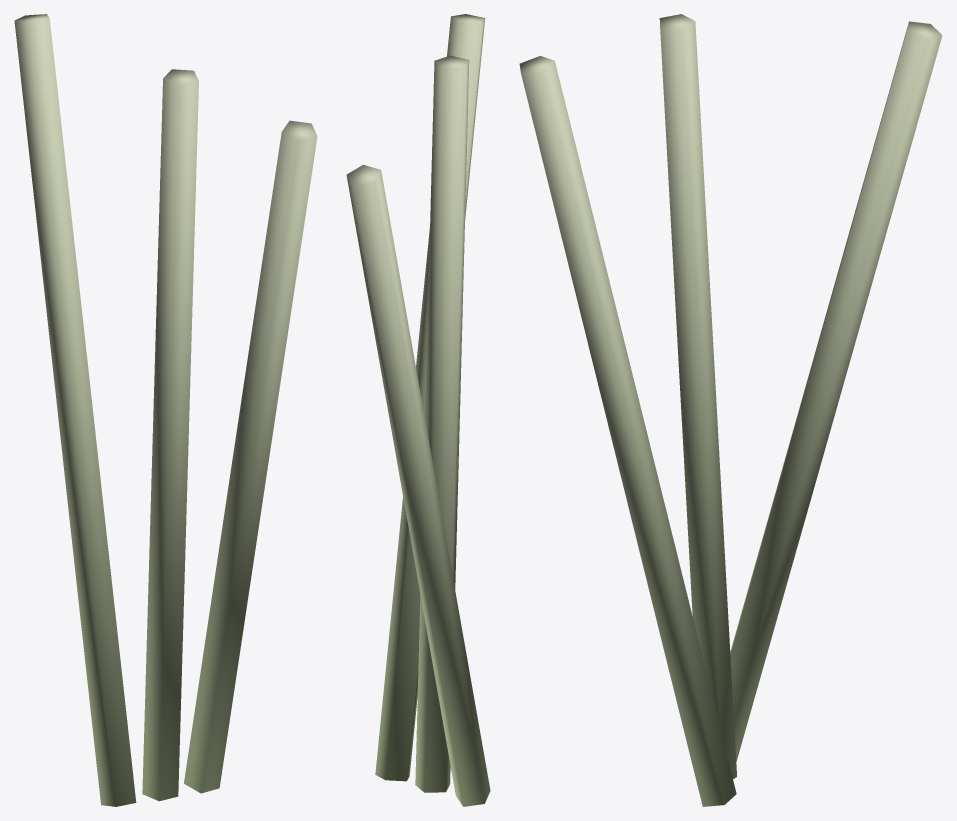
Rendered from reed.glb.
The picture shows the model from 3 angles, left to right: view 1: azimuth 30°, elevation 25°; view 2: azimuth 150°, elevation 25°; view 3: azimuth 270°, elevation 25°; orthographic projection. The views are drawn at different scales.
Visible parts, largest first — view 1: Canopy; view 2: Canopy; view 3: Canopy.
Part boxes in pixels (x1=…): Canopy: x1=14, y1=14, x2=317, y2=806; Canopy: x1=346, y1=14, x2=490, y2=806; Canopy: x1=519, y1=14, x2=942, y2=806.
Bounding box in the file's own units: 0.1493 × 0.8549 × 0.4306.
